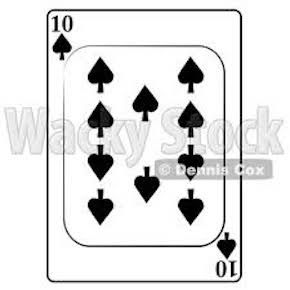TenOfSpades: (38, 7, 249, 284)
